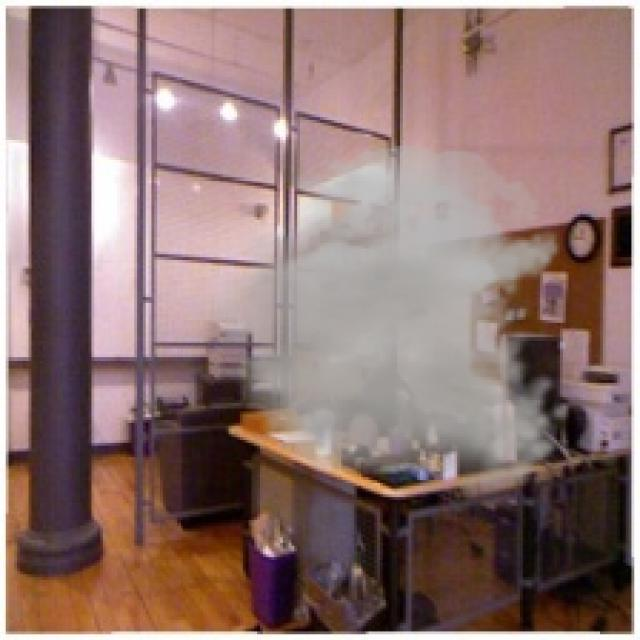smoke: (188, 146, 572, 491)
